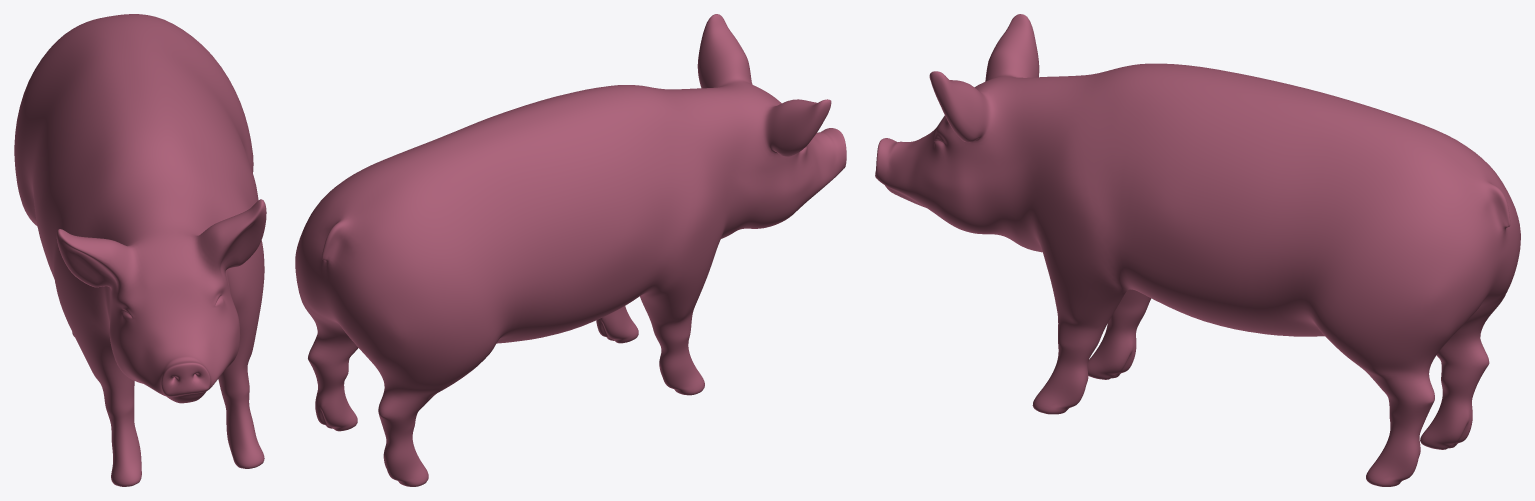
Rendered from babi warna.fbx.
3 views of the same model, side by side, from view 1: azimuth 30°, elevation 25°; view 2: azimuth 150°, elevation 25°; view 3: azimuth 270°, elevation 25° (orthographic). The views are drawn at different scales.
Parts seen in each view (by area): view 1: Cube; view 2: Cube; view 3: Cube.
Boxes of the visible parts, box(x1,y1,x2,y2) form: Cube: box(14, 14, 266, 486); Cube: box(295, 14, 846, 486); Cube: box(875, 14, 1520, 486).
Size of the model in its own units: 147 by 129 by 222.
